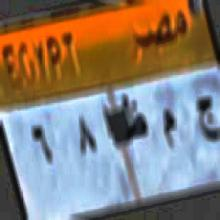6: (28, 118, 53, 174)
8: (77, 107, 99, 165)
Thaa: (121, 89, 150, 154)
jeem: (195, 86, 220, 150)
meem: (161, 103, 178, 157)
